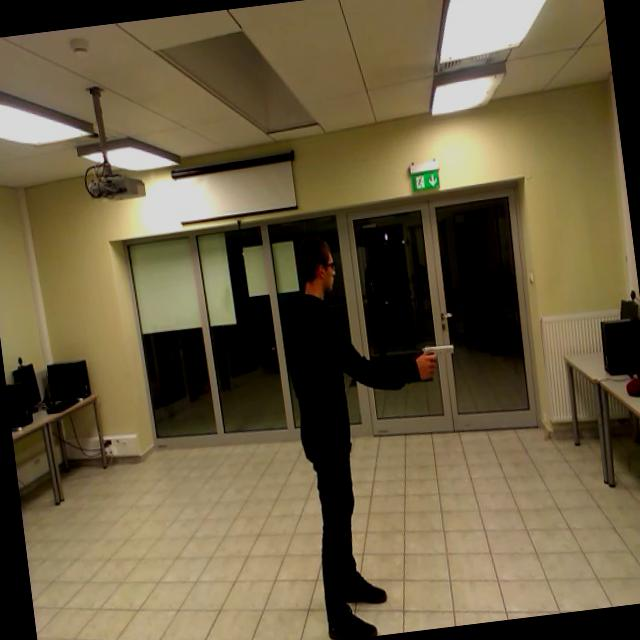handgun: (412, 330, 464, 390)
